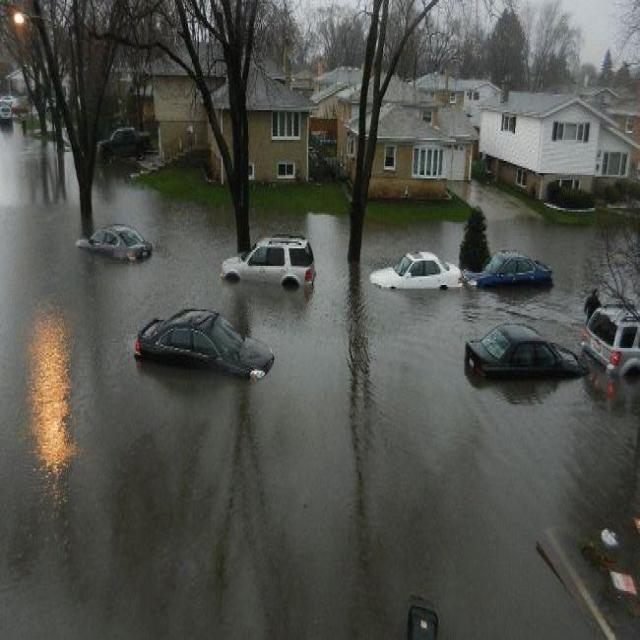water: (0, 120, 637, 638)
